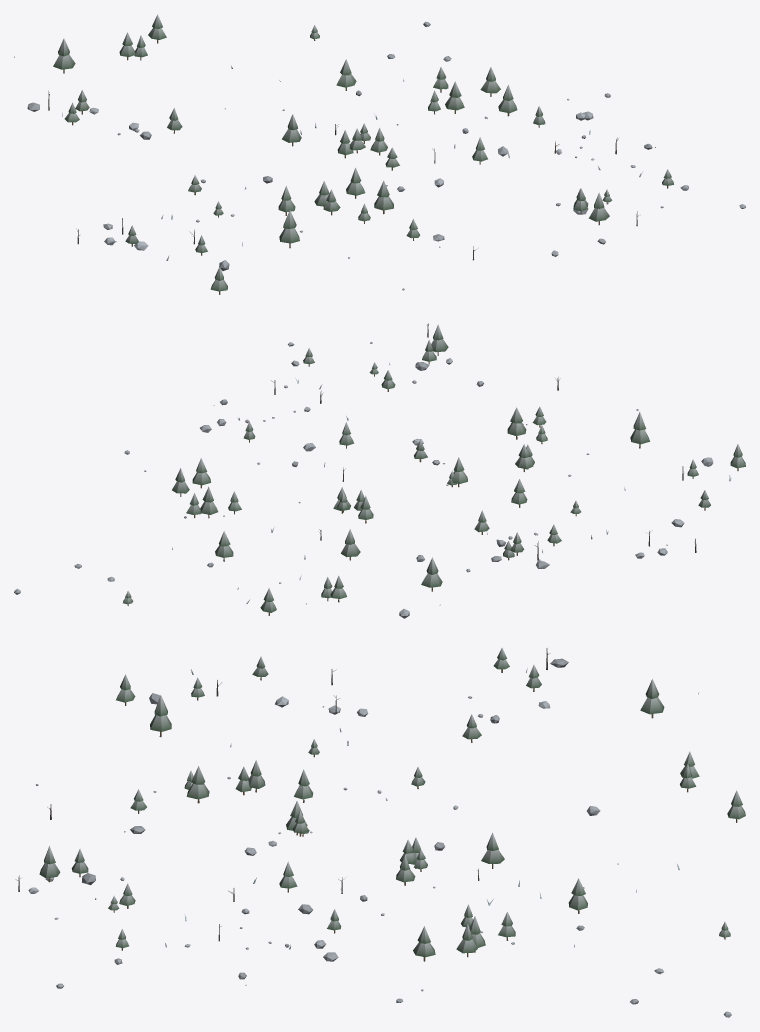
Rendered from frost_land_scatter_c17_10_lod1.glb.
The picture shows the model from 3 angles, top to bottom: view 1: azimuth 30°, elevation 25°; view 2: azimuth 150°, elevation 25°; view 3: azimuth 270°, elevation 25°; orthographic projection. The views are drawn at different scales.
Parts seen in each view (by area): view 1: frost_land_scatter_c17_10_lod1; view 2: frost_land_scatter_c17_10_lod1; view 3: frost_land_scatter_c17_10_lod1.
Part boxes in pixels (bbox=[...]): frost_land_scatter_c17_10_lod1: bbox=[14, 14, 745, 294]; frost_land_scatter_c17_10_lod1: bbox=[14, 323, 745, 618]; frost_land_scatter_c17_10_lod1: bbox=[15, 647, 745, 1017].
Size of the model in its own units: 253 by 47.43 by 256.
